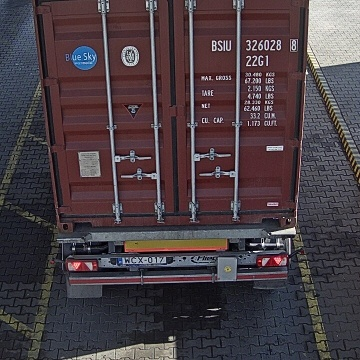serial_id: (212, 39, 297, 51)
